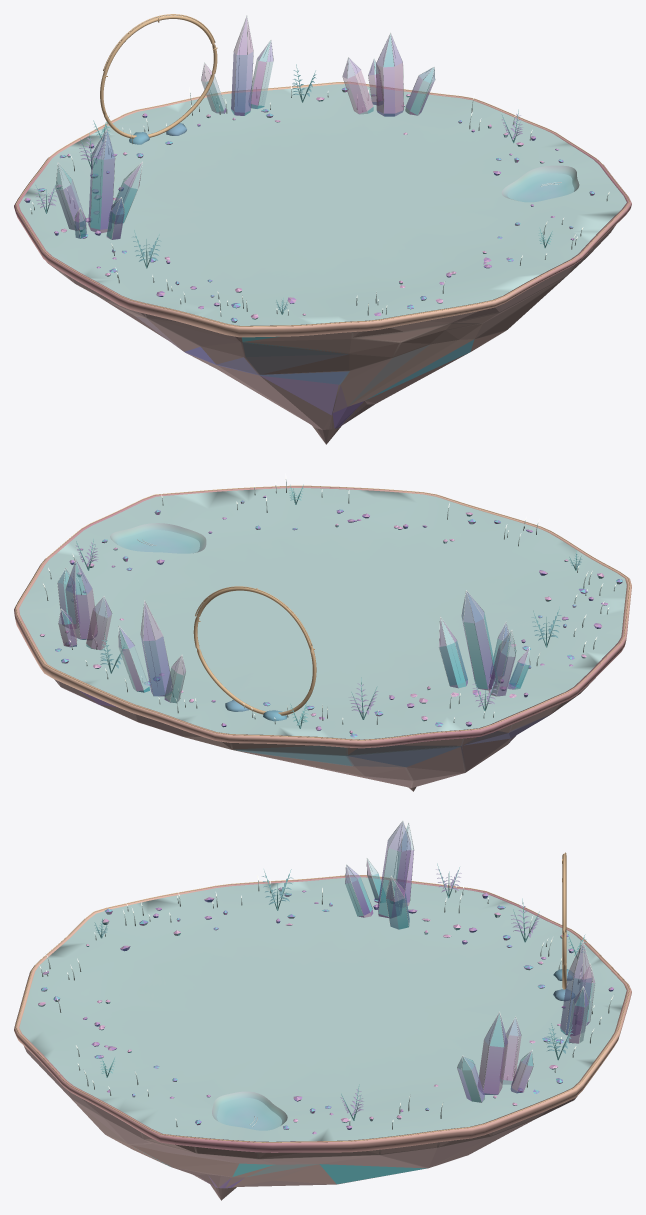
The model's file is island.glb.
The picture shows the model from 3 angles, top to bottom: view 1: azimuth 30°, elevation 25°; view 2: azimuth 150°, elevation 25°; view 3: azimuth 270°, elevation 25°; orthographic projection. The views are drawn at different scales.
Visible parts, largest first — view 1: Island_Surface | Opalescent planting clearing, Island_Crystal_Underside | Asymmetric mineral keel, Island_Metal_Rim | Contour-following rose-gold seam, Island_Peripheral_Crystals | Cluster 1 facet family 1, Island_Vegetation | Ferns and bent grasses, Island_Peripheral_Crystals | Polished facet edges, Island_Peripheral_Crystals | Cluster 2 facet family 1, Island_Pond | Recessed mineral basin, Island_Accents | Scattered opal gravel, Island_Metal_Rim | Champagne upper seam, Island_Ornamental_Ring | Fine golden resonator, Island_Peripheral_Crystals | Cluster 3 facet family 1 (+7 smaller); view 2: Island_Surface | Opalescent planting clearing, Island_Crystal_Underside | Asymmetric mineral keel, Island_Metal_Rim | Contour-following rose-gold seam, Island_Peripheral_Crystals | Cluster 1 facet family 1, Island_Vegetation | Ferns and bent grasses, Island_Pond | Recessed mineral basin, Island_Peripheral_Crystals | Polished facet edges, Island_Peripheral_Crystals | Cluster 2 facet family 1, Island_Accents | Scattered opal gravel, Island_Metal_Rim | Champagne upper seam, Island_Peripheral_Crystals | Cluster 3 facet family 1, Island_Ornamental_Ring | Fine golden resonator (+7 smaller); view 3: Island_Surface | Opalescent planting clearing, Island_Crystal_Underside | Asymmetric mineral keel, Island_Metal_Rim | Contour-following rose-gold seam, Island_Peripheral_Crystals | Cluster 1 facet family 1, Island_Vegetation | Ferns and bent grasses, Island_Peripheral_Crystals | Cluster 2 facet family 1, Island_Pond | Recessed mineral basin, Island_Peripheral_Crystals | Polished facet edges, Island_Accents | Scattered opal gravel, Island_Peripheral_Crystals | Cluster 3 facet family 1, Island_Metal_Rim | Champagne upper seam, Island_Pond | Single aqua water sheet (+6 smaller).
Part boxes in pixels (x1,y1,x2,y2): Island_Surface | Opalescent planting clearing: (19,84,626,325); Island_Crystal_Underside | Asymmetric mineral keel: (47,225,615,444); Island_Metal_Rim | Contour-following rose-gold seam: (14,82,631,337); Island_Peripheral_Crystals | Cluster 1 facet family 1: (88,130,124,239); Island_Vegetation | Ferns and bent grasses: (31,64,608,316); Island_Peripheral_Crystals | Polished facet edges: (55,15,435,239); Island_Peripheral_Crystals | Cluster 2 facet family 1: (368,34,403,116); Island_Pond | Recessed mineral basin: (501,165,579,201); Island_Accents | Scattered opal gravel: (24,87,594,322); Island_Metal_Rim | Champagne upper seam: (15,81,630,326); Island_Ornamental_Ring | Fine golden resonator: (100,14,217,138); Island_Peripheral_Crystals | Cluster 3 facet family 1: (231,18,253,115); Island_Surface | Opalescent planting clearing: (19,488,626,739); Island_Crystal_Underside | Asymmetric mineral keel: (54,678,595,791); Island_Metal_Rim | Contour-following rose-gold seam: (14,486,631,748); Island_Peripheral_Crystals | Cluster 1 facet family 1: (461,592,510,690); Island_Vegetation | Ferns and bent grasses: (43,479,615,728); Island_Pond | Recessed mineral basin: (110,523,206,553); Island_Peripheral_Crystals | Polished facet edges: (57,559,530,701); Island_Peripheral_Crystals | Cluster 2 facet family 1: (58,561,97,647); Island_Accents | Scattered opal gravel: (40,495,622,737); Island_Metal_Rim | Champagne upper seam: (15,485,630,740); Island_Peripheral_Crystals | Cluster 3 facet family 1: (140,602,172,696); Island_Ornamental_Ring | Fine golden resonator: (193,586,316,715); Island_Surface | Opalescent planting clearing: (19,877,626,1141); Island_Crystal_Underside | Asymmetric mineral keel: (24,1046,577,1200); Island_Metal_Rim | Contour-following rose-gold seam: (14,875,631,1152); Island_Peripheral_Crystals | Cluster 1 facet family 1: (345,822,410,918); Island_Vegetation | Ferns and bent grasses: (41,863,613,1129); Island_Peripheral_Crystals | Cluster 2 facet family 1: (478,1014,533,1094); Island_Pond | Recessed mineral basin: (212,1091,287,1130); Island_Peripheral_Crystals | Polished facet edges: (345,820,595,1102); Island_Accents | Scattered opal gravel: (38,887,614,1134); Island_Peripheral_Crystals | Cluster 3 facet family 1: (560,943,592,1035); Island_Metal_Rim | Champagne upper seam: (15,875,630,1142); Island_Pond | Single aqua water sheet: (217,1098,281,1130).
Bounding box in the file's own units: 7.93 × 4.63 × 7.69.
